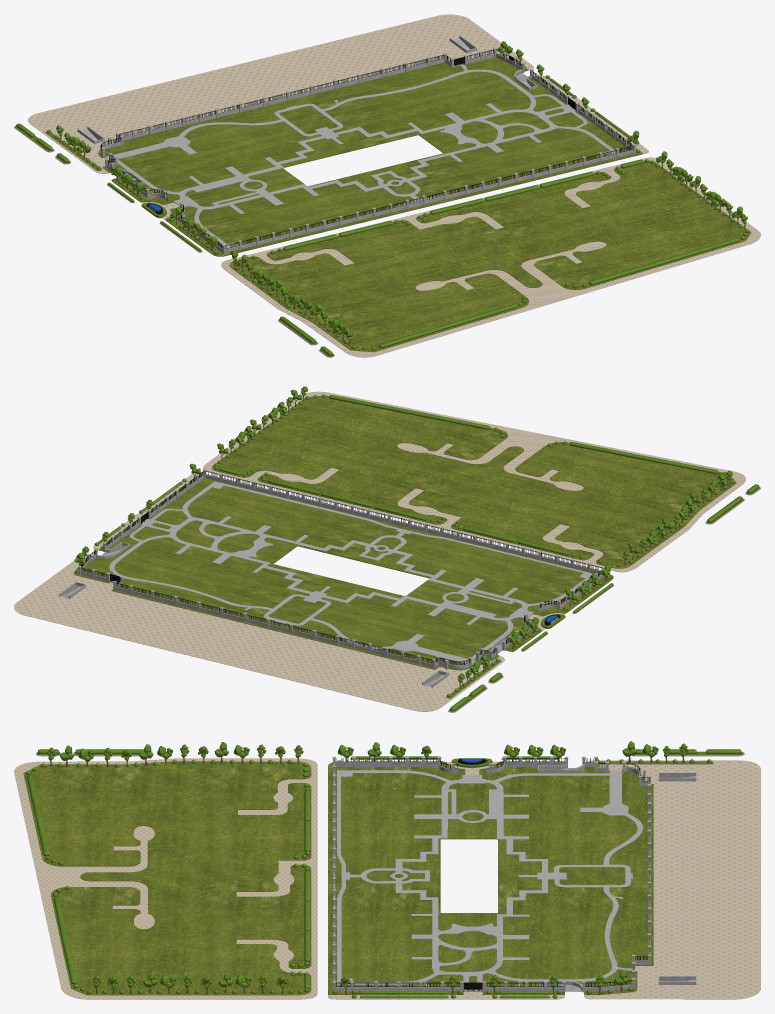
File: 2_floor.FBX
3 renders of one model, top to bottom at view 1: azimuth 30°, elevation 25°; view 2: azimuth 150°, elevation 25°; view 3: azimuth 270°, elevation 25°, orthographic. The views are drawn at different scales.
Visible parts, largest first — view 1: 2_grass2, 2_grass1, 2_floor2, 2_floor3, 2_floor1, treeg028, treeg027; view 2: 2_grass2, 2_grass1, 2_floor2, 2_floor3, 2_floor1, treeg028, treeg027; view 3: 2_grass2, 2_grass1, 2_floor2, 2_floor3, 2_floor1, treeg028, treeg027.
Part boxes in pixels (box(x1,y1,x2,y2)): 2_grass2: box(98, 57, 643, 256); 2_grass1: box(229, 160, 751, 352); 2_floor2: box(28, 14, 648, 221); 2_floor3: box(104, 64, 615, 248); 2_floor1: box(221, 157, 760, 357); treeg028: box(589, 238, 738, 284); treeg027: box(379, 304, 517, 347); 2_grass2: box(73, 477, 613, 670); 2_grass1: box(212, 395, 736, 568); 2_floor2: box(14, 473, 567, 711); 2_floor3: box(109, 481, 592, 663); 2_floor1: box(203, 391, 745, 572); treeg028: box(329, 395, 490, 429); treeg027: box(569, 442, 718, 473); 2_grass2: box(328, 761, 653, 994); 2_grass1: box(23, 761, 311, 995); 2_floor2: box(328, 760, 760, 999); 2_floor3: box(337, 770, 642, 990); 2_floor1: box(14, 758, 317, 999); treeg028: box(53, 896, 77, 984); treeg027: box(27, 775, 49, 856).
Size of the model in its own units: 190 by 9.1 by 242.
